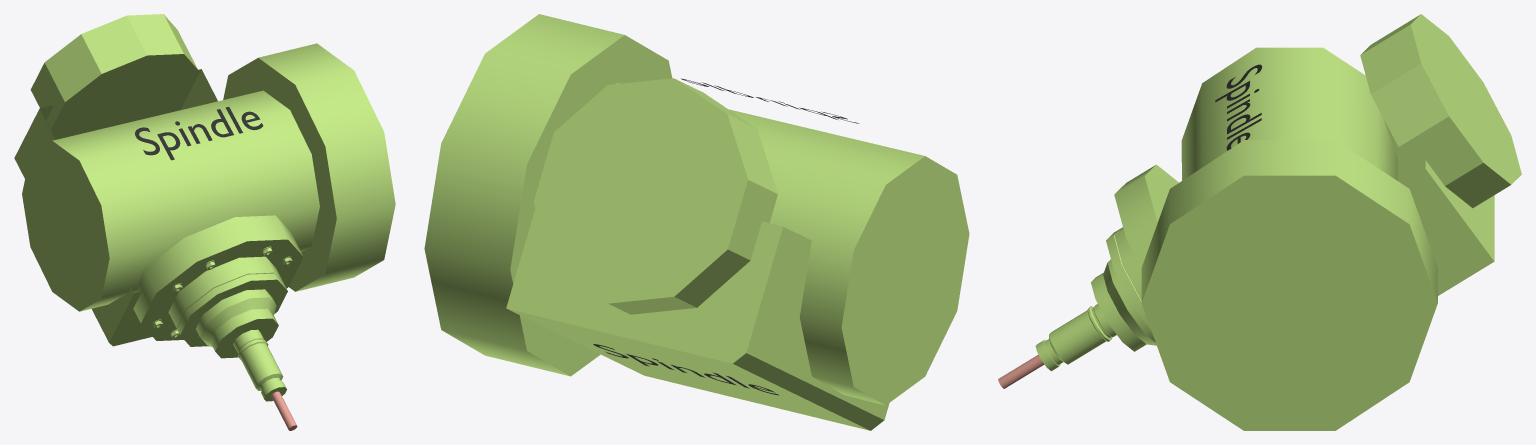
The model's file is spindle.glb.
3 views of the same model, side by side, from view 1: azimuth 30°, elevation 25°; view 2: azimuth 150°, elevation 25°; view 3: azimuth 270°, elevation 25° (orthographic). The views are drawn at different scales.
Parts seen in each view (by area): view 1: Cube.025, Cube.024, Cube.012, Cube.035, Text.004, Cube.036, Cube.034; view 2: Cube.025, Cube.024, Text.003; view 3: Cube.025, Cube.024, Cube.012, Cube.035, Text.004, Cube.034.
Boxes of the visible parts, bbox=[...] form: Cube.025: bbox=[22, 43, 395, 311]; Cube.024: bbox=[14, 14, 217, 346]; Cube.012: bbox=[168, 256, 287, 401]; Cube.035: bbox=[133, 215, 303, 340]; Text.004: bbox=[135, 107, 263, 160]; Cube.036: bbox=[152, 246, 292, 338]; Cube.034: bbox=[271, 391, 297, 430]; Cube.025: bbox=[424, 14, 969, 405]; Cube.024: bbox=[506, 78, 889, 430]; Text.003: bbox=[593, 344, 778, 395]; Cube.025: bbox=[1141, 47, 1437, 430]; Cube.024: bbox=[1360, 14, 1521, 295]; Cube.012: bbox=[1035, 227, 1156, 371]; Cube.035: bbox=[1114, 164, 1178, 267]; Text.004: bbox=[1215, 64, 1261, 150]; Cube.034: bbox=[998, 354, 1044, 388].
Bounding box in the file's own units: 0.5982 × 0.625 × 0.8156.
